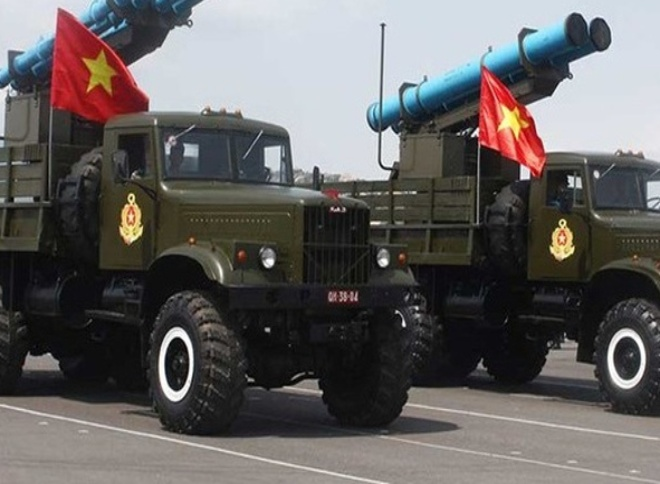plate: (327, 288, 362, 305)
